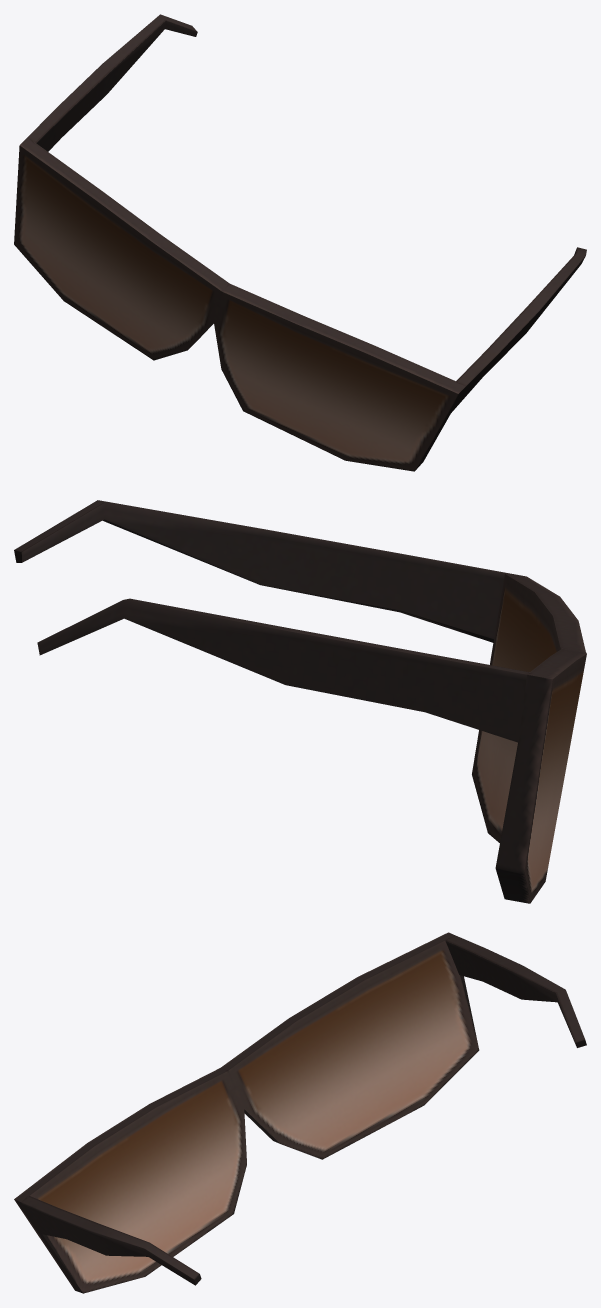
Rendered from MaLuBian_01_yanjing_01.FBX.
3 renders of one model, top to bottom at view 1: azimuth 30°, elevation 25°; view 2: azimuth 150°, elevation 25°; view 3: azimuth 270°, elevation 25°, orthographic. The views are drawn at different scales.
Visible parts, largest first — view 1: MaLuBian_01_yanjing_01; view 2: MaLuBian_01_yanjing_01; view 3: MaLuBian_01_yanjing_01.
Boxes of the visible parts, box(x1,y1,x2,y2) form: MaLuBian_01_yanjing_01: box(14, 14, 586, 471); MaLuBian_01_yanjing_01: box(14, 500, 586, 903); MaLuBian_01_yanjing_01: box(14, 932, 586, 1293).
Size of the model in its own units: 72.58 by 45.03 by 79.1.
